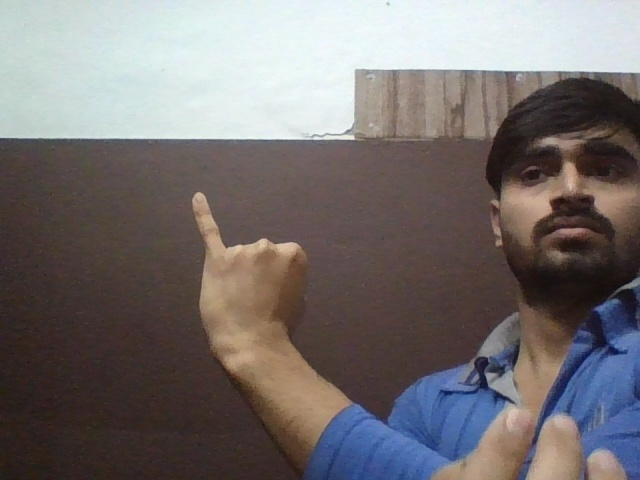J: (181, 180, 323, 330)
